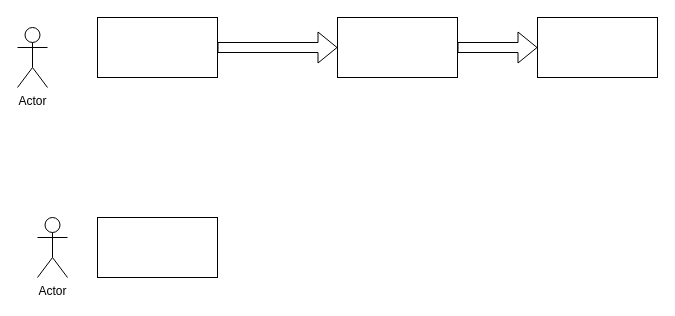
Some shapes in this 675 by 316 pixel diagram are drawn without their labels. The box of each missing label's shape, as (x1, y1, x2, y2) in pixels:
マイページ: (96, 16, 218, 78)
掲示板などのリンク: (96, 216, 218, 278)
